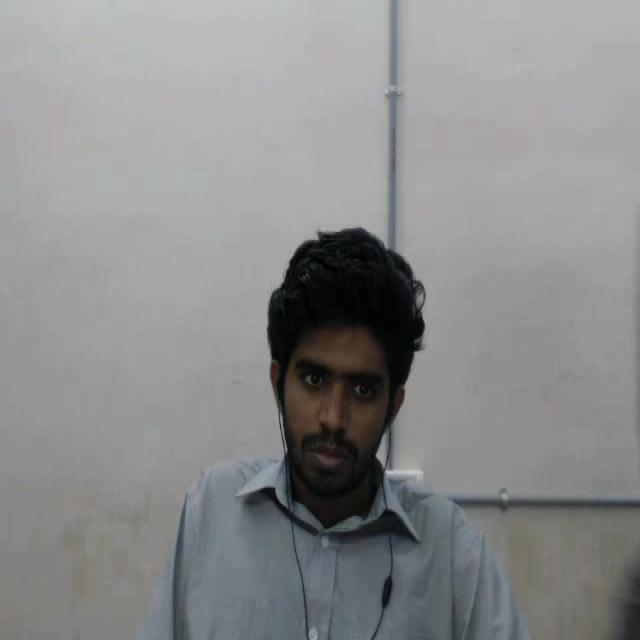Engaged: (258, 202, 434, 542)
